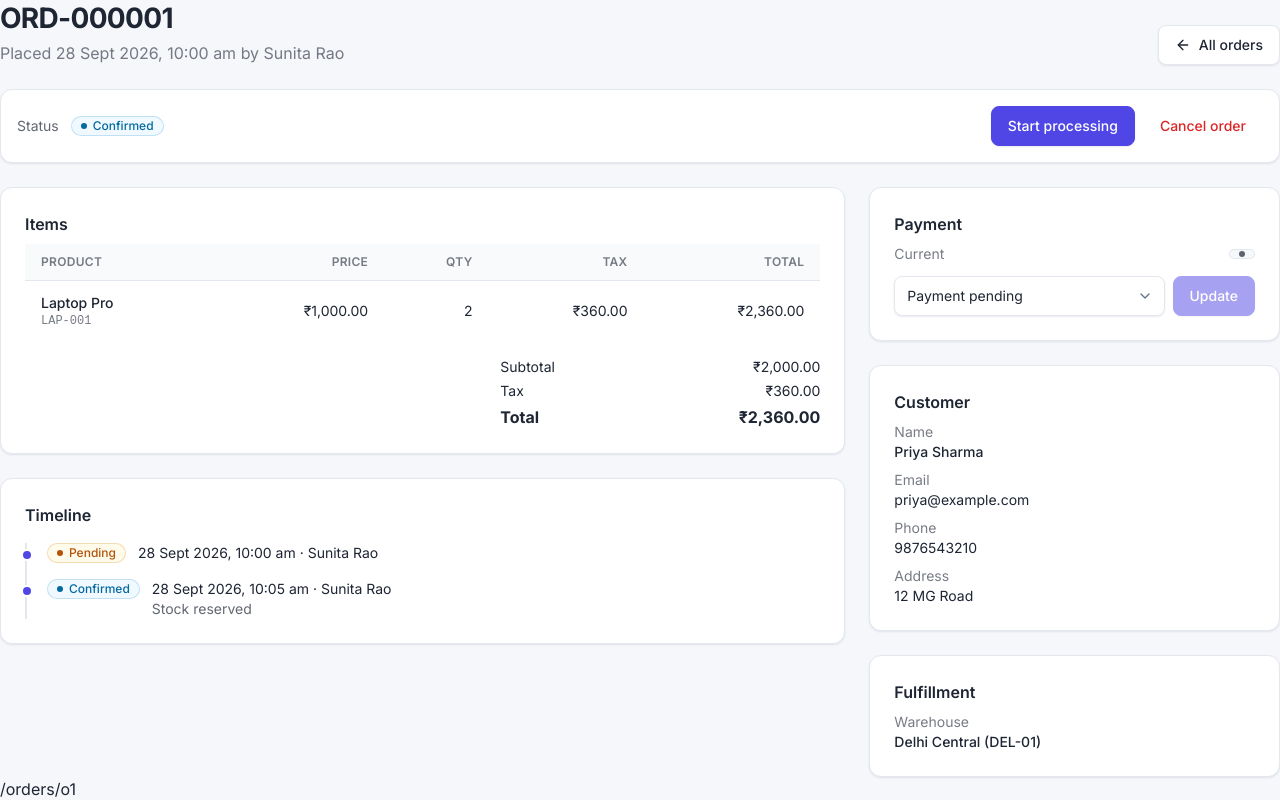
Test: OrderDetailPage › cancelling sends the optional reason with DELETE
This screenshot has width=1280, height=800.
Click the button with aria-label "Cancel ORD-000001". click: (1203, 126)
box: left=1143, top=106, right=1263, bottom=146
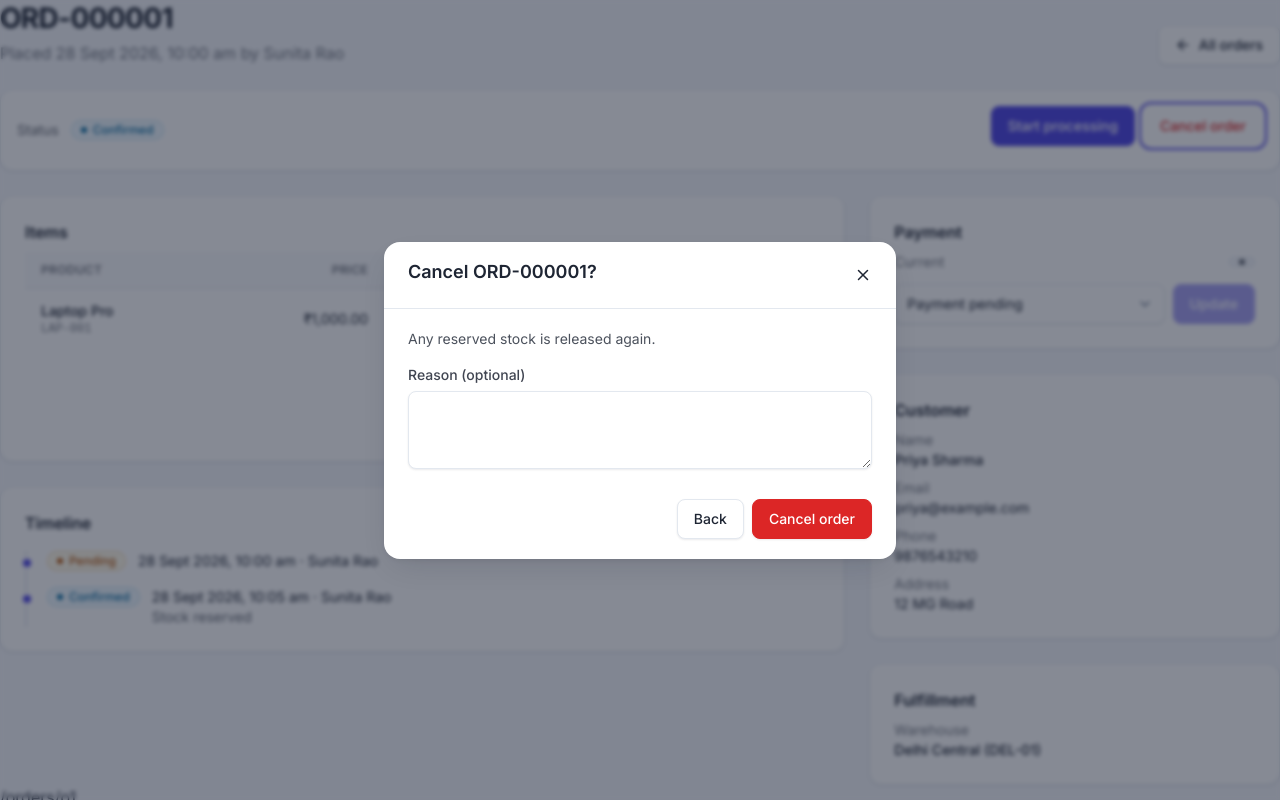
Type "Customer changed mind" into the text box labelled "Reason (optional)". click: (640, 430)
box: left=408, top=390, right=872, bottom=468
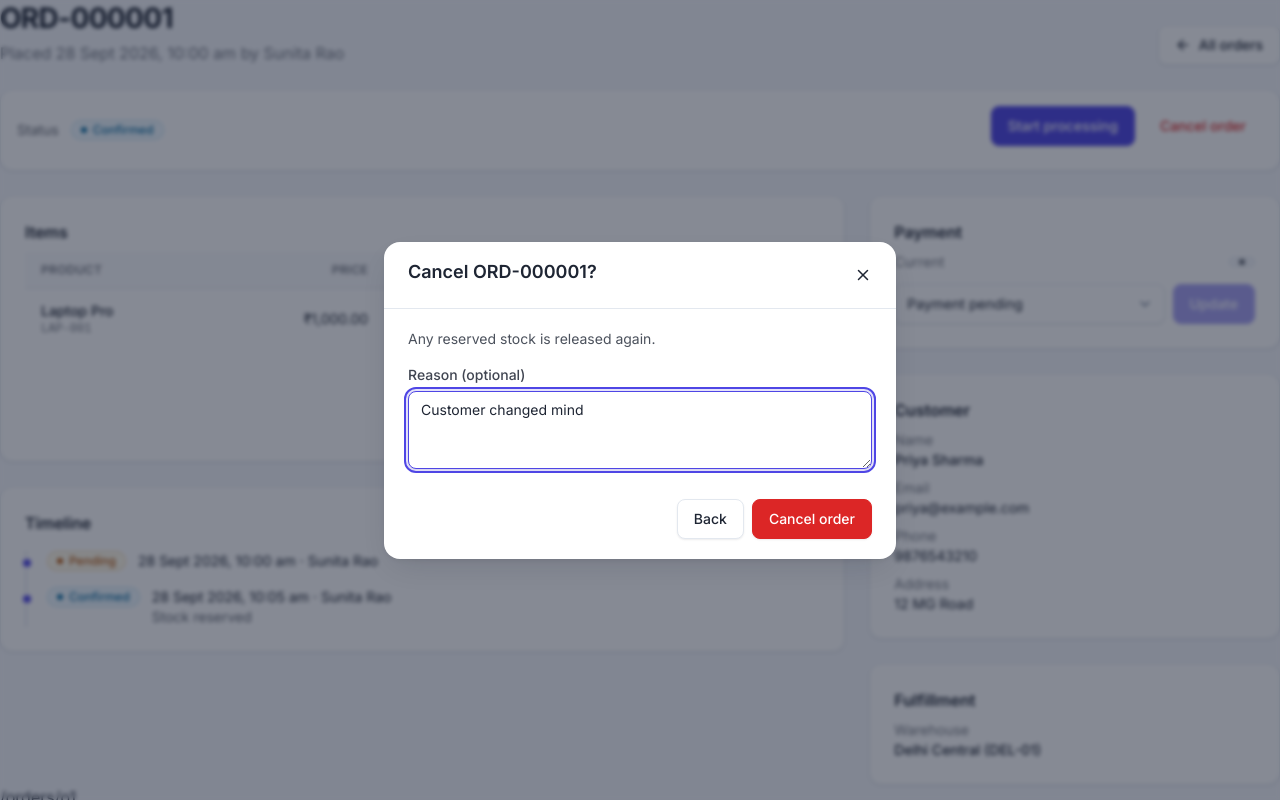
Click the button "Cancel order". click: (812, 518)
box: left=752, top=498, right=872, bottom=538
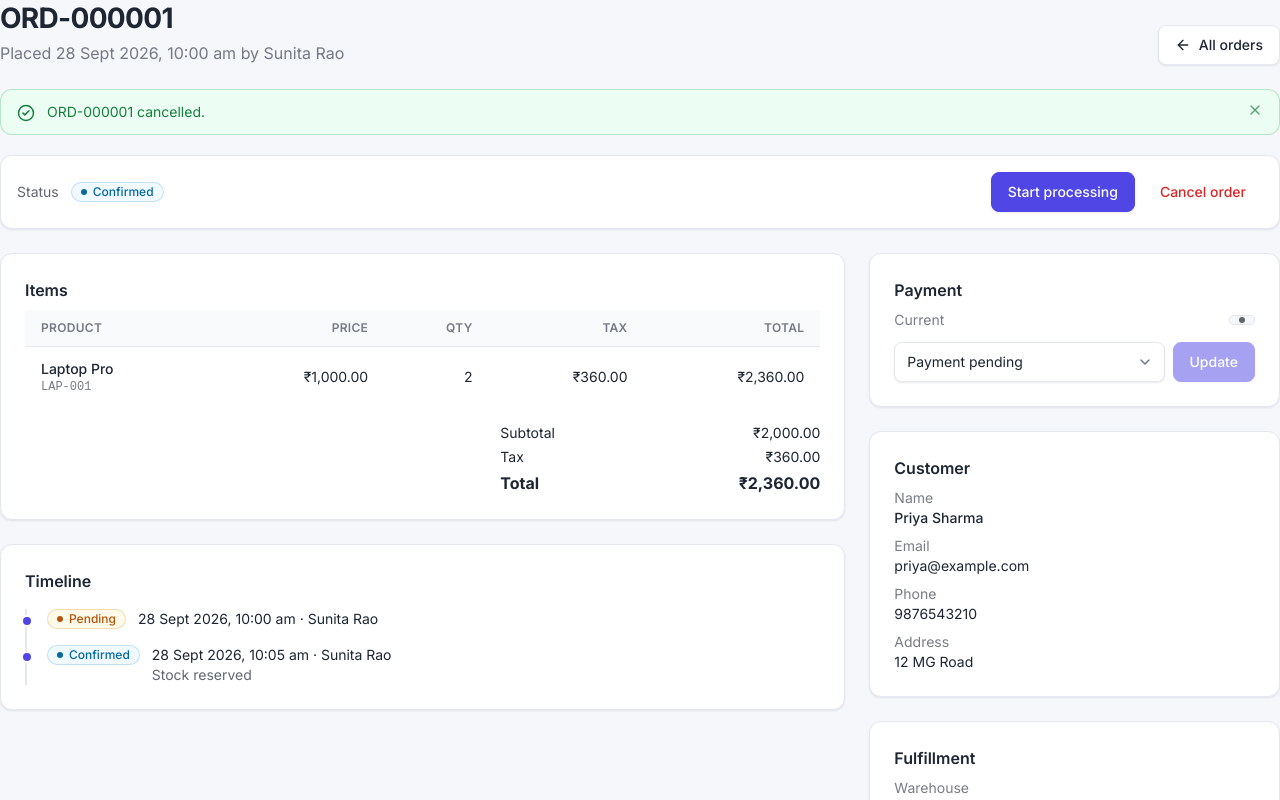
Check: the text "ORD-000001 cancelled." is shown, box left=47, top=103, right=205, bottom=120
